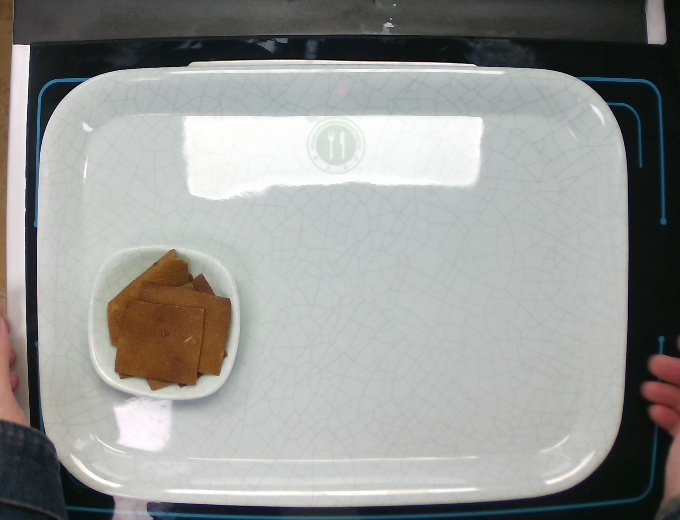JYsf-Si_Fang_Die: (82, 238, 246, 402)
